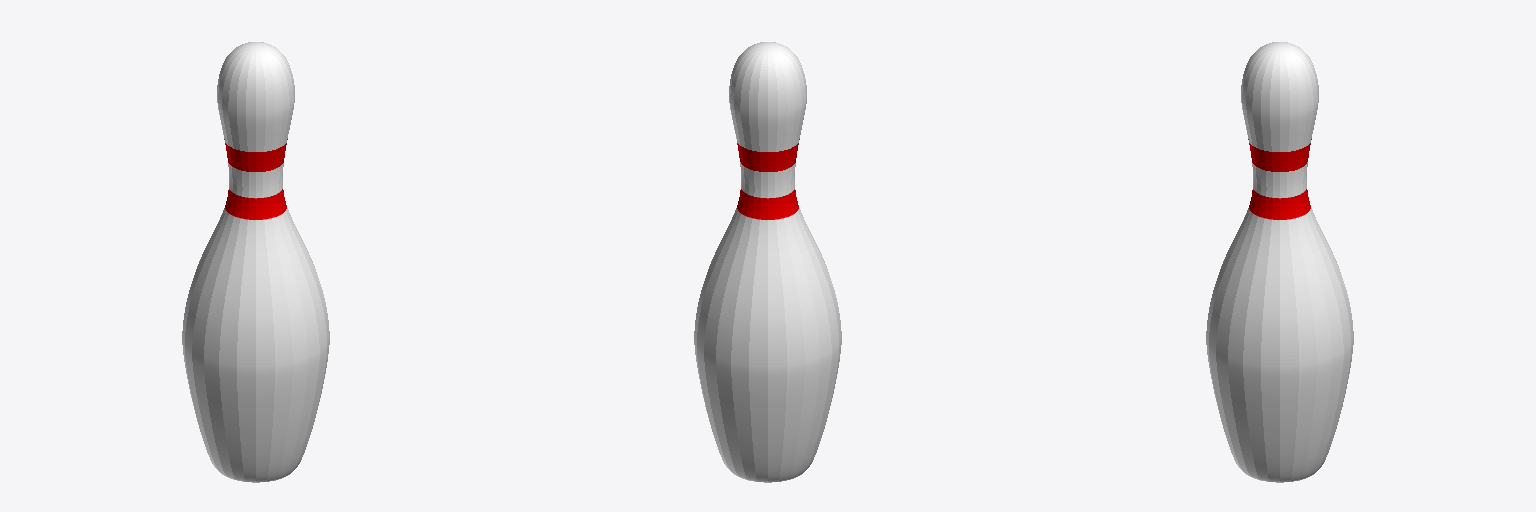
The picture shows the model from 3 angles: view 1: azimuth 30°, elevation 25°; view 2: azimuth 150°, elevation 25°; view 3: azimuth 270°, elevation 25°; orthographic projection.
Parts seen in each view (by area): view 1: scaledPin_High:Poly:Pin; view 2: scaledPin_High:Poly:Pin; view 3: scaledPin_High:Poly:Pin.
Part boxes in pixels (left/top/right/bottom): scaledPin_High:Poly:Pin: left=182, top=42, right=329, bottom=482; scaledPin_High:Poly:Pin: left=694, top=42, right=841, bottom=482; scaledPin_High:Poly:Pin: left=1206, top=42, right=1353, bottom=482.
Bounding box in the file's own units: 4.57 × 14.4 × 4.57.
Materials: 1 (1 with a texture image).